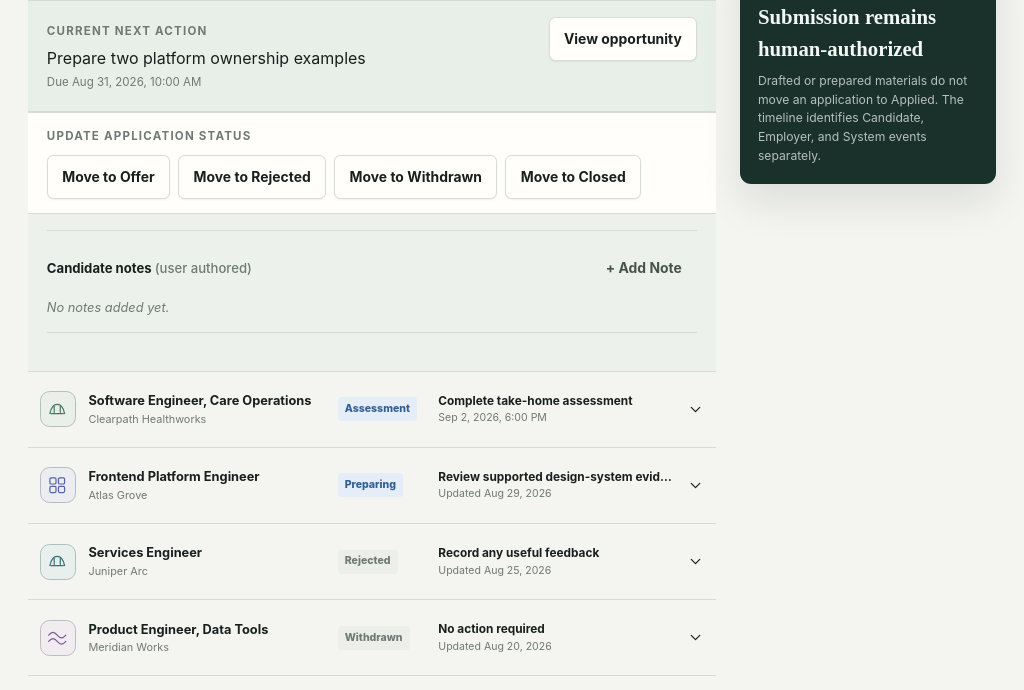
it: application pipeline › expands another application activity timeline
(page scrolled)
Click the button "Software Engineer, Care Operations": (372, 409) top-left (28, 372), bottom-right (716, 447)
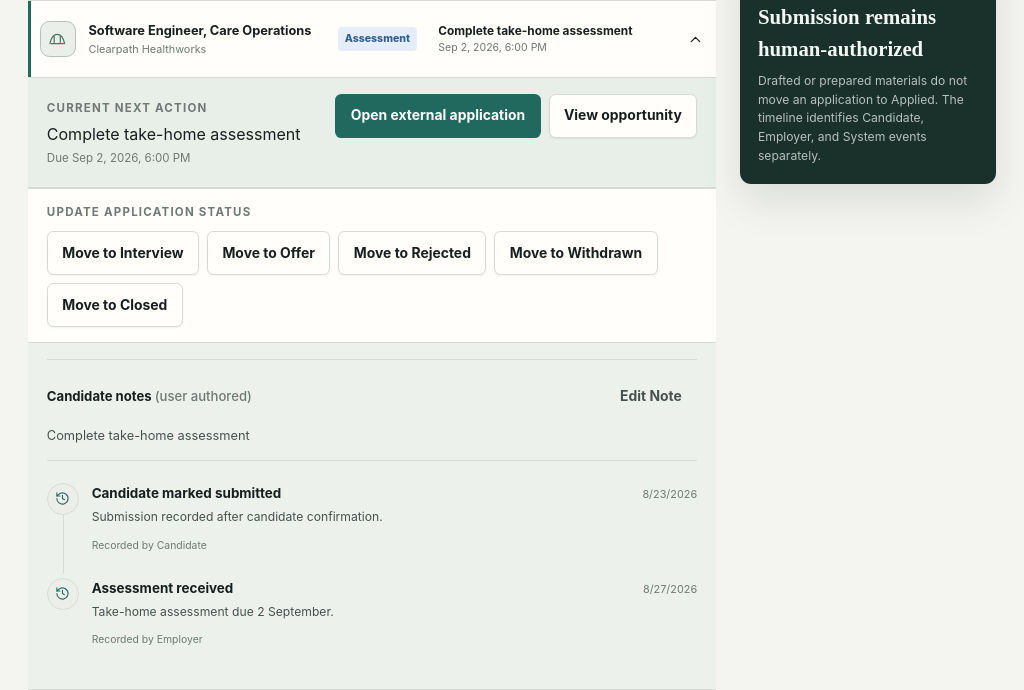
Expected: the text "Take-home assessment due 2 September." is shown, top-left (92, 604), bottom-right (334, 618)
